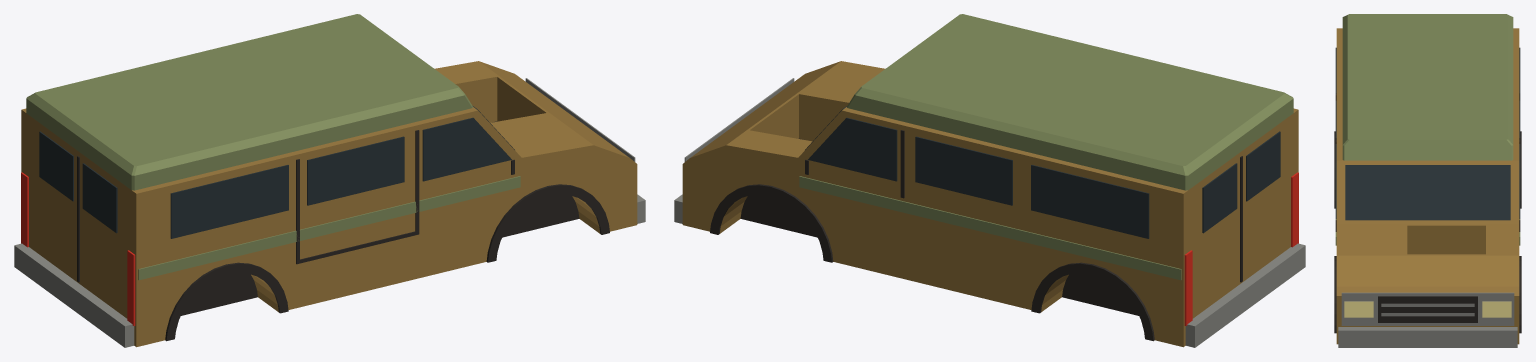
File: base_van.glb
The picture shows the model from 3 angles, left to right: view 1: azimuth 30°, elevation 25°; view 2: azimuth 150°, elevation 25°; view 3: azimuth 270°, elevation 25°; orthographic projection. The views are drawn at different scales.
Visible parts, largest first — view 1: base_van; view 2: base_van; view 3: base_van.
Part boxes in pixels (<box>): base_van: <box>14,14,645,347</box>; base_van: <box>674,14,1305,347</box>; base_van: <box>1334,14,1521,347</box>.
Size of the model in its own units: 5.53 by 1.77 by 2.17.
